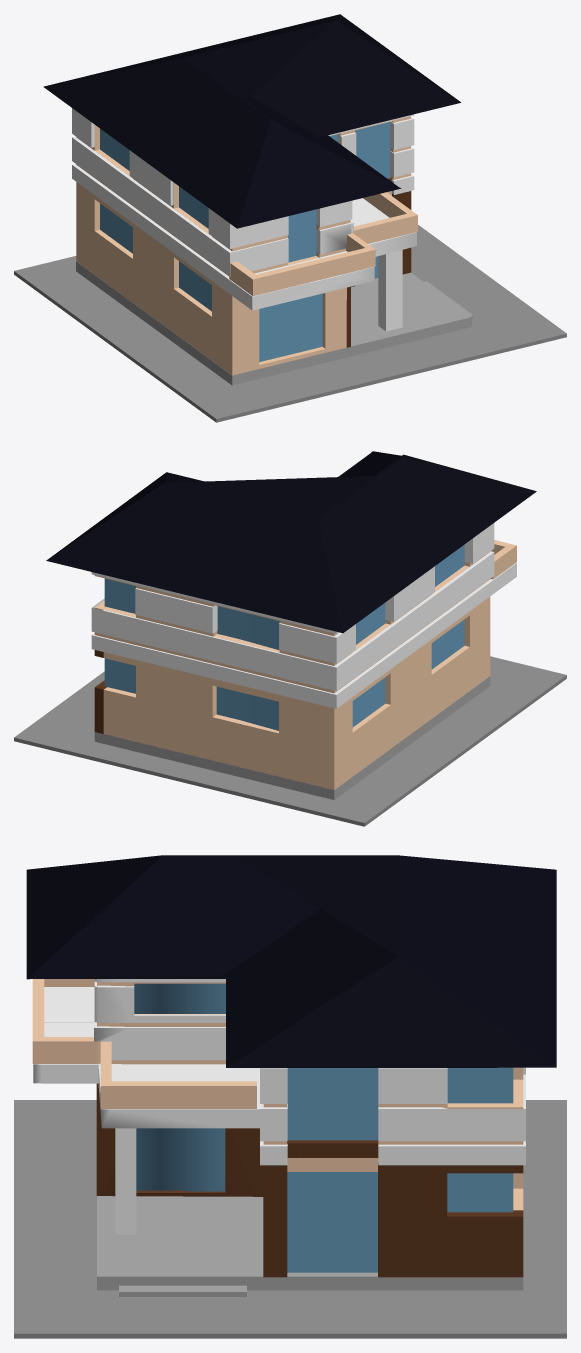
Rendered from Dom VI.FBX.
The picture shows the model from 3 angles, top to bottom: view 1: azimuth 30°, elevation 25°; view 2: azimuth 150°, elevation 25°; view 3: azimuth 270°, elevation 25°; orthographic projection. The views are drawn at different scales.
Visible parts, largest first — view 1: Box004 (×2), Plane001, Box021, Box002, Box018, Box024, Box025, Box026, Object; view 2: Box004 (×2), Box002, Box021, Plane001, Box018, Box024, Object; view 3: Box004 (×2), Plane001, Box021, Box018, Object, Box025, Box002, Box024, Box026, Box022, Box005, Box023.
Part boxes in pixels (<box>): Box004 (×2): <box>43,14,471,385</box>; Plane001: <box>14,225,566,422</box>; Box021: <box>72,108,416,310</box>; Box002: <box>76,116,410,375</box>; Box018: <box>100,122,390,361</box>; Box024: <box>229,233,375,296</box>; Box025: <box>353,192,417,243</box>; Box026: <box>378,250,402,331</box>; Object: <box>346,191,411,347</box>; Box004 (×2): <box>46,451,536,799</box>; Box002: <box>94,551,490,789</box>; Box021: <box>91,523,516,708</box>; Plane001: <box>14,656,566,826</box>; Box018: <box>104,544,464,730</box>; Box024: <box>490,540,516,579</box>; Object: <box>94,650,106,733</box>; Box004 (×2): <box>26,855,556,1290</box>; Plane001: <box>14,1100,566,1338</box>; Box021: <box>33,979,525,1165</box>; Box018: <box>134,983,513,1272</box>; Object: <box>96,1083,523,1277</box>; Box025: <box>100,1041,256,1108</box>; Box002: <box>97,982,523,1210</box>; Box024: <box>32,979,97,1063</box>; Box026: <box>115,1128,136,1234</box>; Box022: <box>287,1140,378,1157</box>; Box005: <box>119,1285,246,1296</box>; Box023: <box>287,1157,378,1171</box>.
Size of the model in its own units: 2 by 1.28 by 2.
